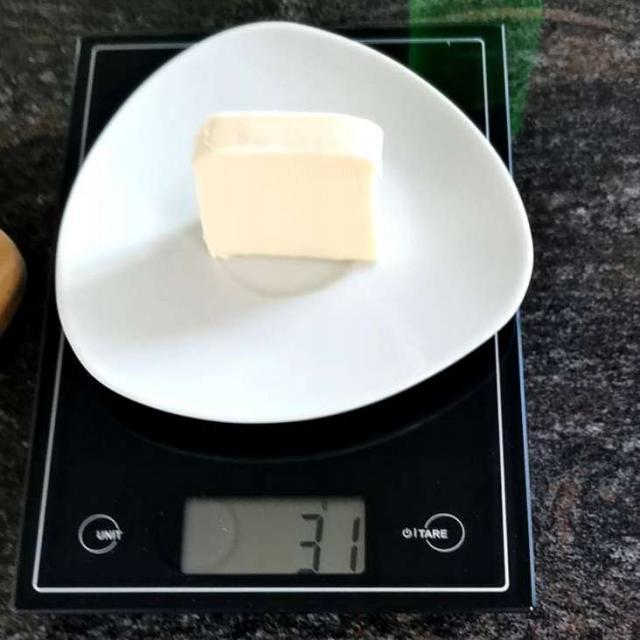butter: (194, 113, 380, 262)
